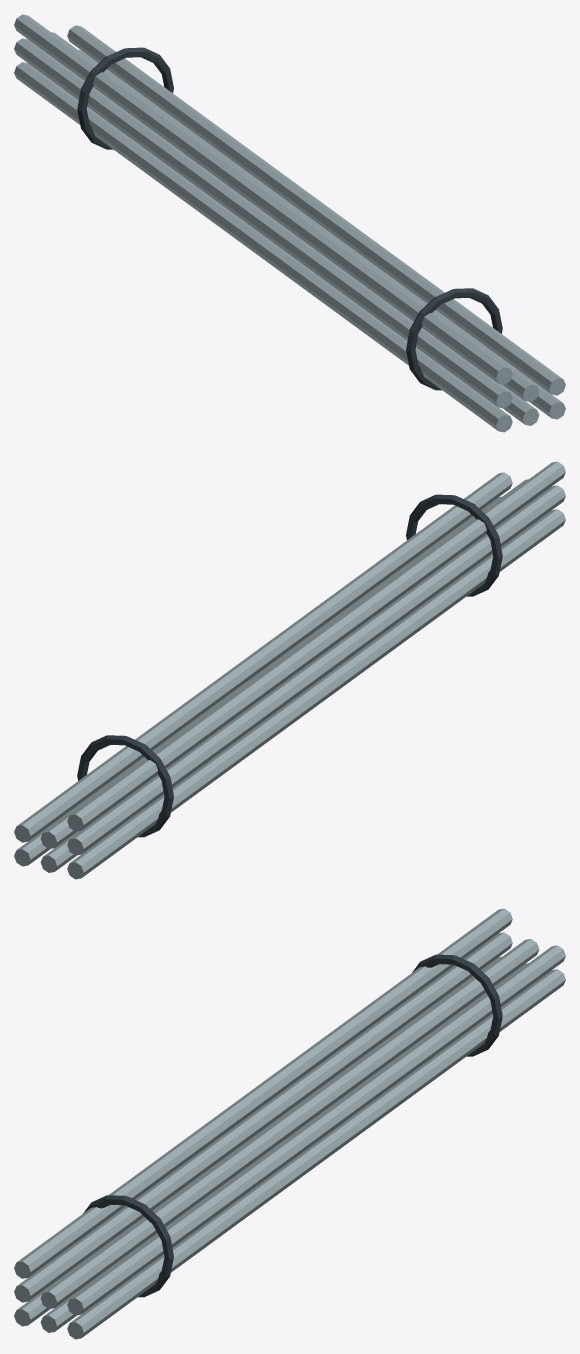
Rendered from Rebar_Bundle.glb.
3 renders of one model, top to bottom at view 1: azimuth 30°, elevation 25°; view 2: azimuth 150°, elevation 25°; view 3: azimuth 330°, elevation 25°, orthographic.
Visible parts, largest first — view 1: Rebar_Bundle; view 2: Rebar_Bundle; view 3: Rebar_Bundle.
Part boxes in pixels (x1=…): Rebar_Bundle: x1=14, y1=14, x2=565, y2=432; Rebar_Bundle: x1=14, y1=461, x2=565, y2=879; Rebar_Bundle: x1=14, y1=908, x2=565, y2=1339.
Bounding box in the file's own units: 0.254 × 0.254 × 2.2.
